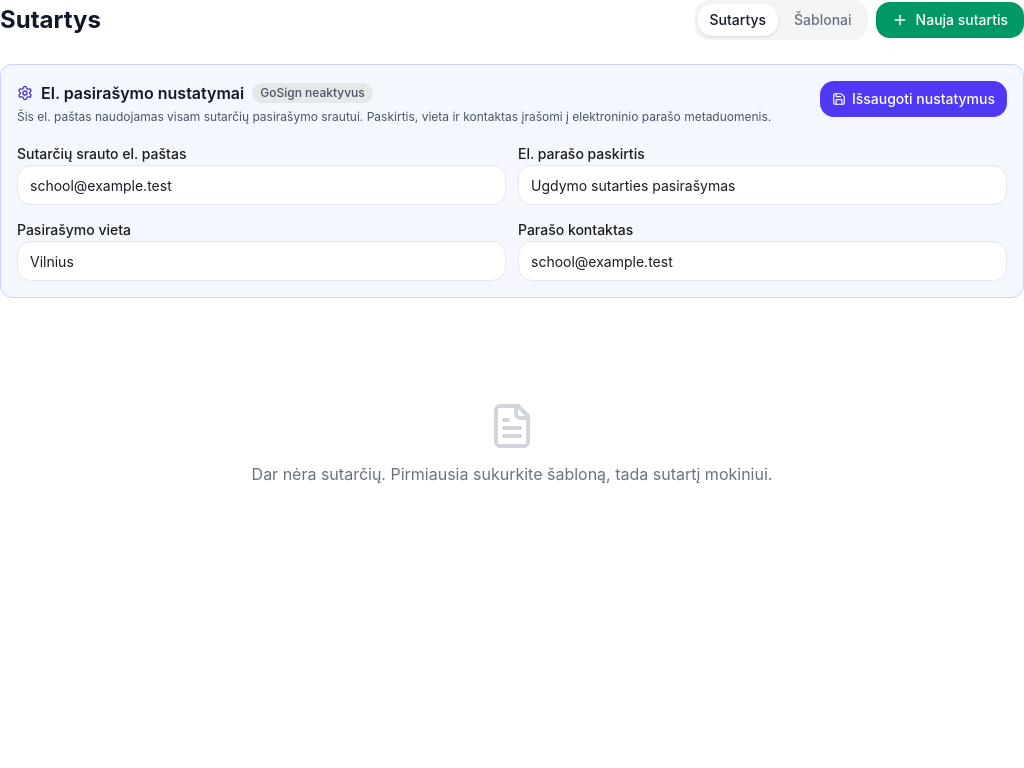
CompanyContracts student grade in new-contract modal › shows the grade next to each student option
Click the button "Nauja sutartis": (950, 20) [876, 2, 1023, 38]
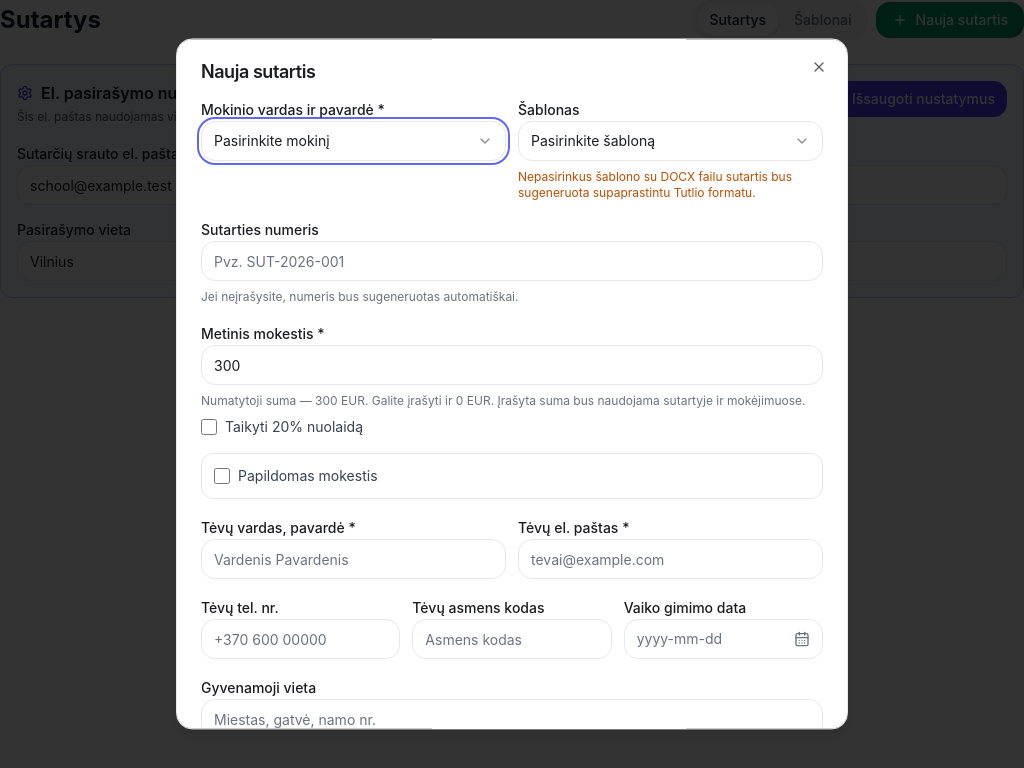
Result: the dropdown "Pasirinkite mokinį" is shown
Press Enter in the dropdown "Pasirinkite mokinį", box [201, 121, 506, 161]
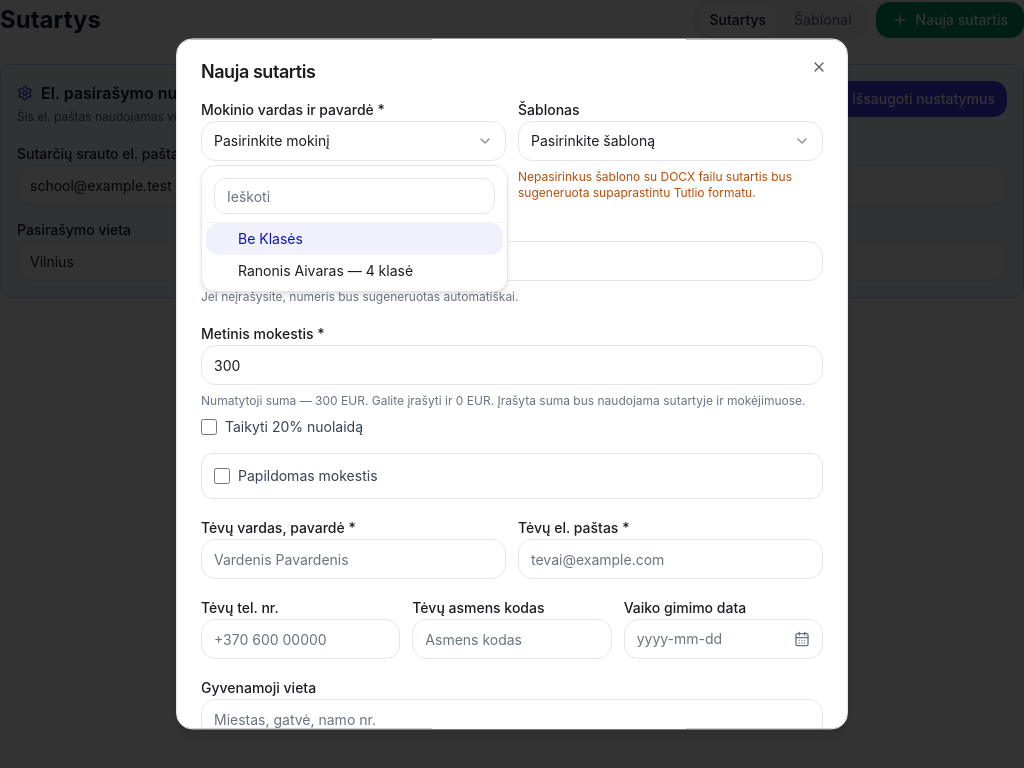
Result: the text "Ranonis Aivaras — 4 klasė" is shown at [238, 261, 413, 281]
Result: the text "Be Klasės" is shown at [238, 229, 303, 249]
